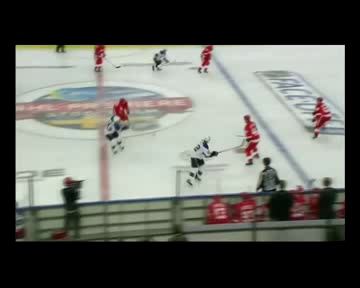normal: (100, 93, 143, 165), (231, 106, 269, 167)
